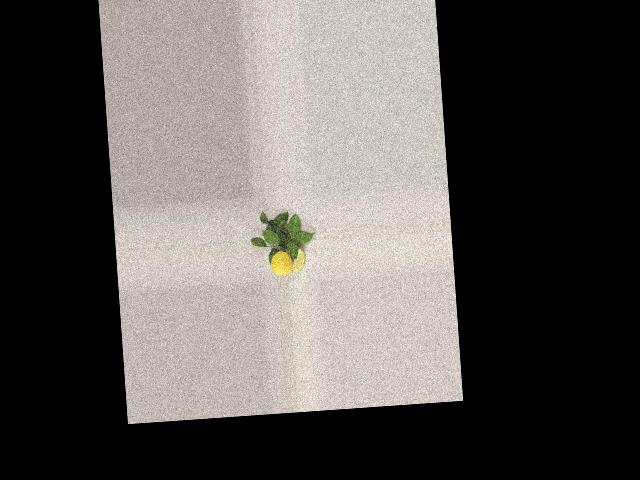lemon: (269, 248, 291, 275)
